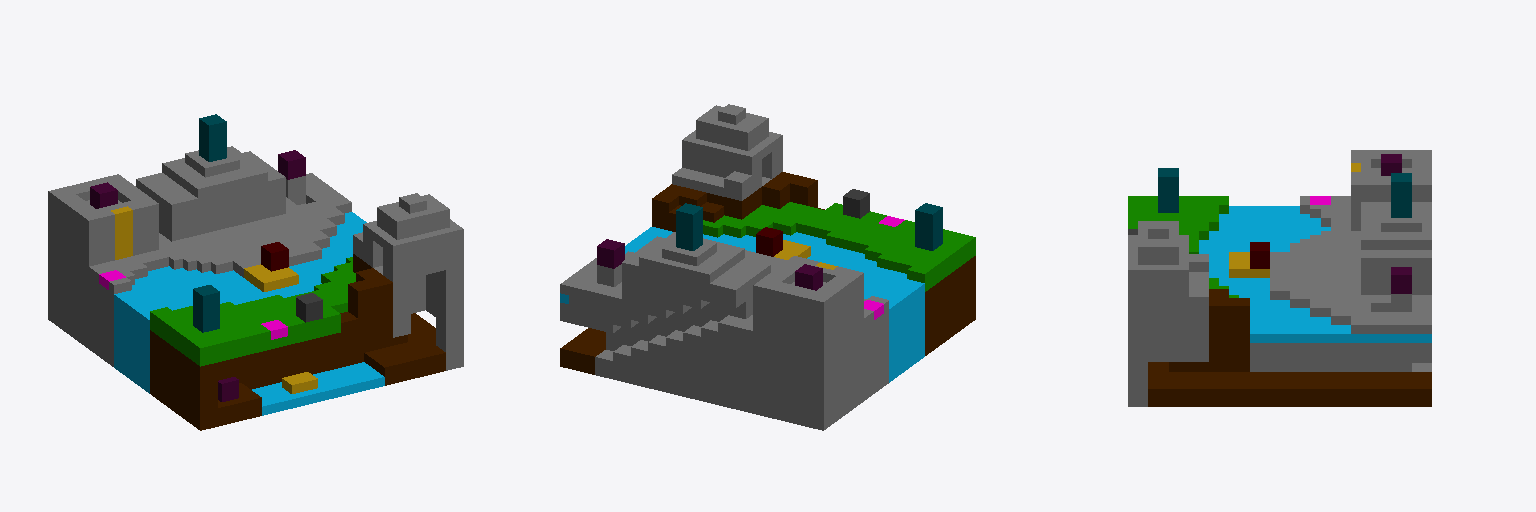
The picture shows the model from 3 angles: view 1: azimuth 30°, elevation 25°; view 2: azimuth 150°, elevation 25°; view 3: azimuth 270°, elevation 25°; orthographic projection.
Bounding box in the file's own units: 30 × 19 × 30.
1 materials, 1 textured.